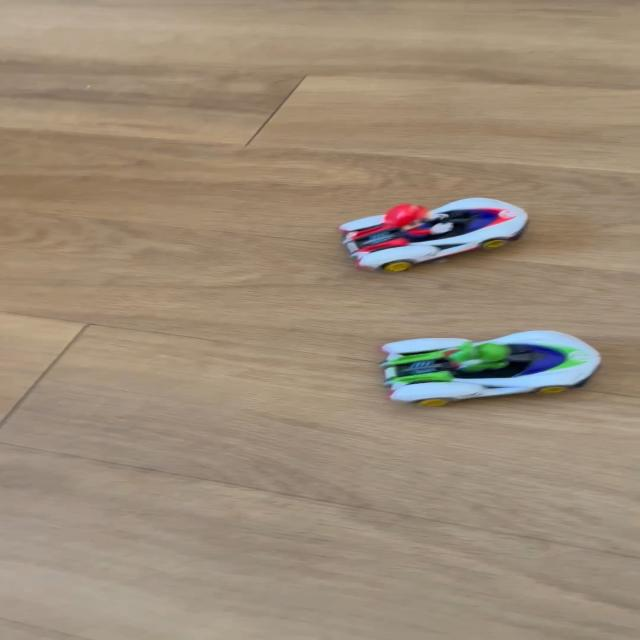mario: (325, 191, 546, 274)
yoshi: (372, 324, 616, 408)
